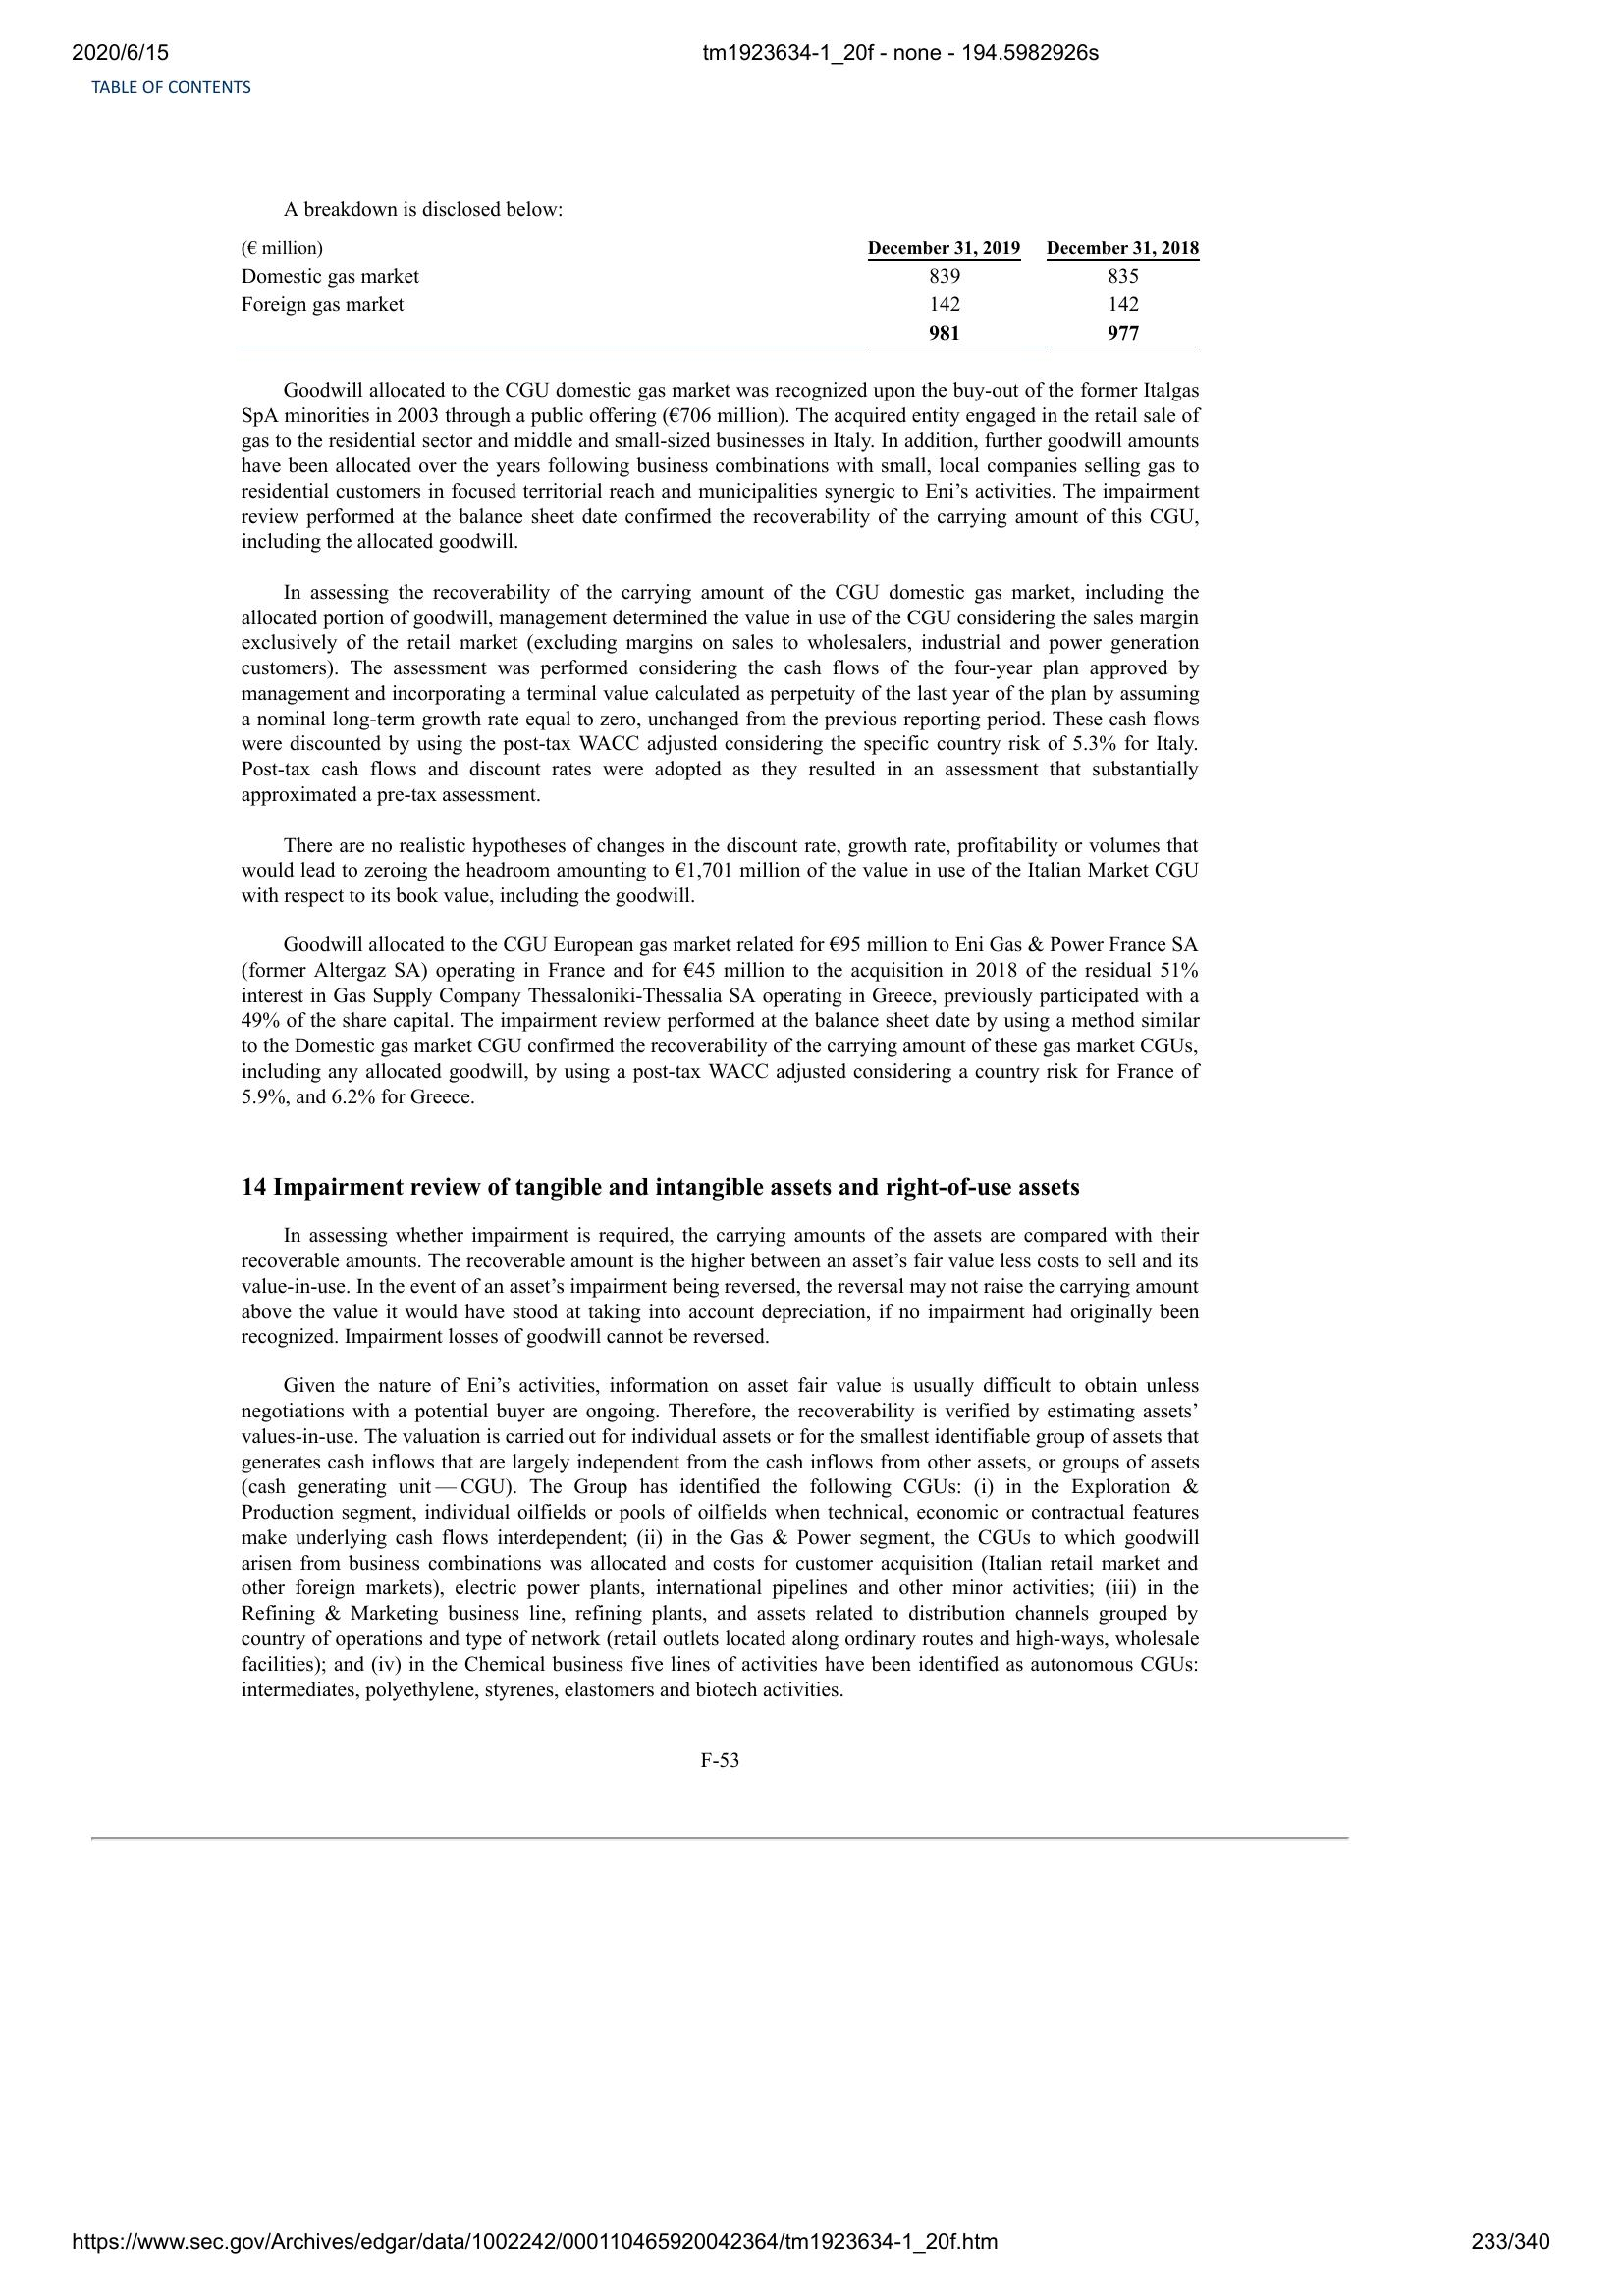table: (230, 223, 1210, 351)
